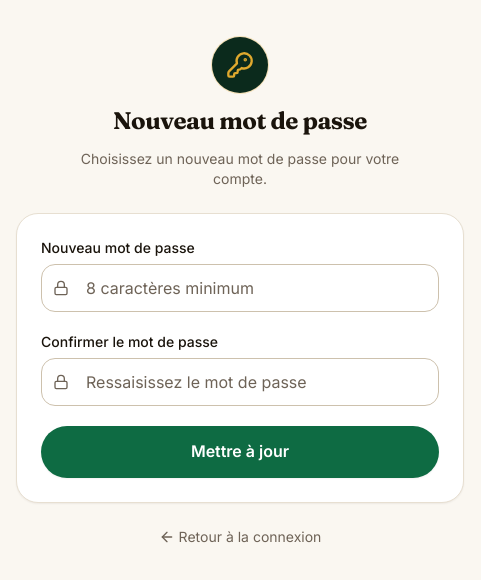
Test case: Back-office reset-password › refuse si les deux mots de passe diffèrent
Type "nouveau1234" into the password field labelled "Nouveau mot de passe" at {"x": 240, "y": 288}, box [41,264,439,312]
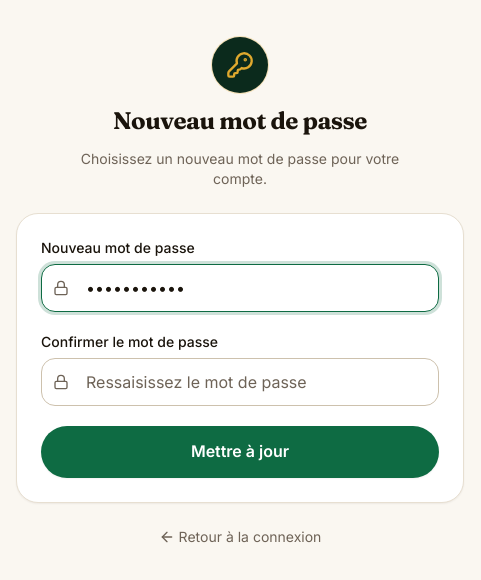
Type "different1234" into the password field labelled "Confirmer le mot de passe" at {"x": 240, "y": 382}, box [41,358,439,406]
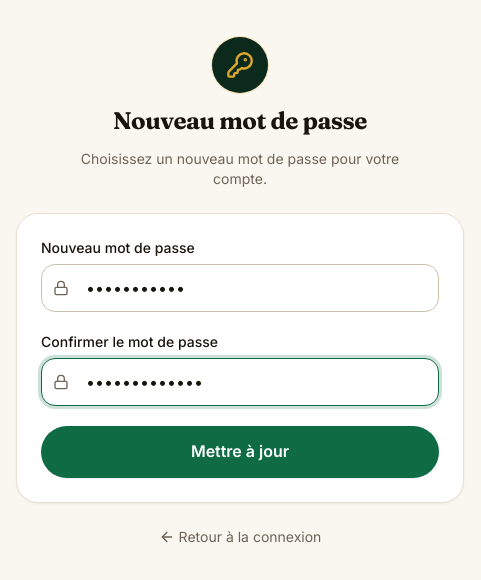
Click the button "Mettre à jour" at {"x": 240, "y": 452}, box [41,426,439,478]
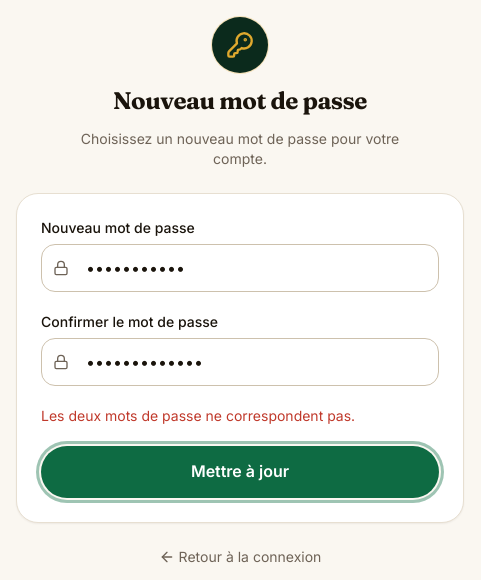
expect the text "Les deux mots de passe ne correspondent pas." is shown: met, box [41,407,355,424]
